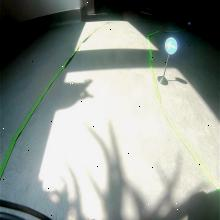left: (164, 36, 178, 55)
